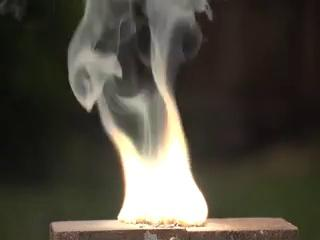Fire: (99, 107, 209, 228)
